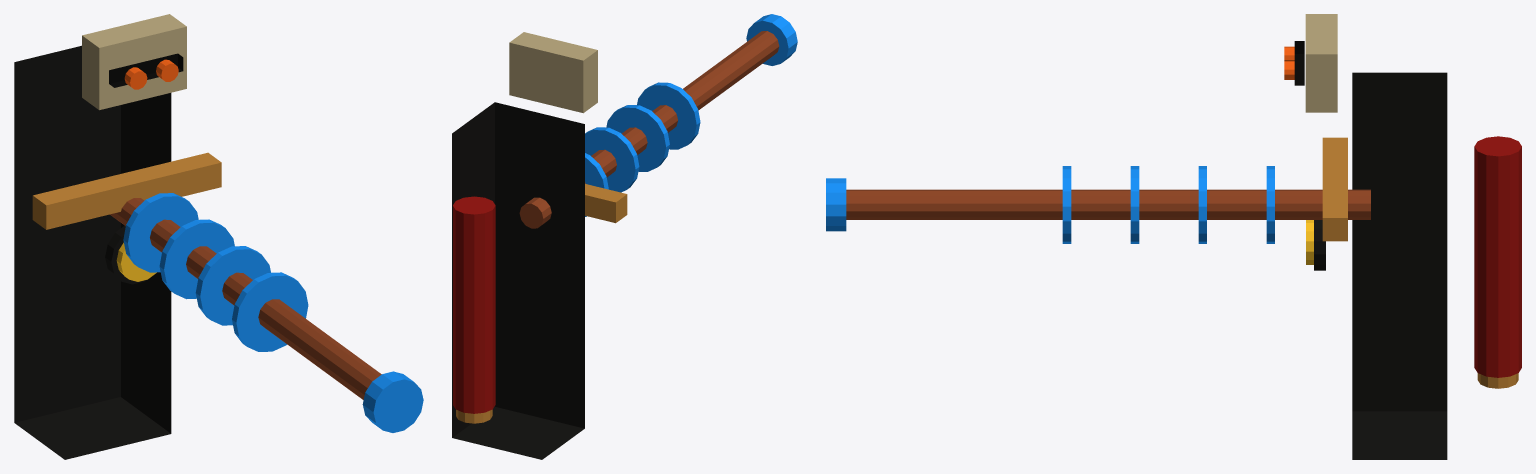
File: ENEMY_V0134_Lancer_ReadabilityOverlay.obj
3 renders of one model, left to right at view 1: azimuth 30°, elevation 25°; view 2: azimuth 150°, elevation 25°; view 3: azimuth 270°, elevation 25°, orthographic. The views are drawn at different scales.
Visible parts, largest first — view 1: lancer_tall_thin_ranged_silhouette_core, lancer_shoulders_kept_small_to_protect_lance_read, lancer_narrow_cream_face_plate, lancer_uninterrupted_forward_lance_line, lancer_sequence_bolt_charge_ring_z_0.98, lancer_sequence_bolt_charge_ring_z_0.78, lancer_sequence_bolt_charge_ring_z_0.58, lancer_sequence_bolt_charge_ring_z_0.38, lancer_muzzle_blue_bolt_core_not_weakpoint, lancer_soot_narrow_eye_slit, lancer_sternum_weak_point_below_weapon_black_ring, lancer_sternum_weak_point_below_weapon_gold_glass; view 2: lancer_tall_thin_ranged_silhouette_core, lancer_back_charge_red_pressure_vessel, lancer_narrow_cream_face_plate, lancer_uninterrupted_forward_lance_line, lancer_sequence_bolt_charge_ring_z_0.98, lancer_sequence_bolt_charge_ring_z_0.78, lancer_sequence_bolt_charge_ring_z_0.58, lancer_muzzle_blue_bolt_core_not_weakpoint, lancer_shoulders_kept_small_to_protect_lance_read, lancer_sequence_bolt_charge_ring_z_0.38, lancer_back_charge_brass_cap_a; view 3: lancer_tall_thin_ranged_silhouette_core, lancer_uninterrupted_forward_lance_line, lancer_back_charge_red_pressure_vessel, lancer_narrow_cream_face_plate, lancer_shoulders_kept_small_to_protect_lance_read, lancer_muzzle_blue_bolt_core_not_weakpoint, lancer_sequence_bolt_charge_ring_z_0.78, lancer_sequence_bolt_charge_ring_z_0.98, lancer_sequence_bolt_charge_ring_z_0.38, lancer_sequence_bolt_charge_ring_z_0.58.
Boxes of the visible parts, bbox=[...] form: lancer_tall_thin_ranged_silhouette_core: bbox=[14, 45, 171, 459]; lancer_shoulders_kept_small_to_protect_lance_read: bbox=[32, 152, 221, 229]; lancer_narrow_cream_face_plate: bbox=[82, 14, 186, 110]; lancer_uninterrupted_forward_lance_line: bbox=[110, 198, 381, 399]; lancer_sequence_bolt_charge_ring_z_0.98: bbox=[232, 272, 308, 351]; lancer_sequence_bolt_charge_ring_z_0.78: bbox=[195, 246, 270, 325]; lancer_sequence_bolt_charge_ring_z_0.58: bbox=[159, 219, 234, 299]; lancer_sequence_bolt_charge_ring_z_0.38: bbox=[123, 193, 198, 272]; lancer_muzzle_blue_bolt_core_not_weakpoint: bbox=[362, 371, 423, 432]; lancer_soot_narrow_eye_slit: bbox=[109, 53, 183, 87]; lancer_sternum_weak_point_below_weapon_black_ring: bbox=[105, 225, 146, 284]; lancer_sternum_weak_point_below_weapon_gold_glass: bbox=[116, 242, 156, 281]; lancer_tall_thin_ranged_silhouette_core: bbox=[452, 102, 584, 459]; lancer_back_charge_red_pressure_vessel: bbox=[453, 196, 495, 413]; lancer_narrow_cream_face_plate: bbox=[509, 32, 597, 113]; lancer_uninterrupted_forward_lance_line: bbox=[519, 31, 779, 228]; lancer_sequence_bolt_charge_ring_z_0.98: bbox=[637, 82, 700, 149]; lancer_sequence_bolt_charge_ring_z_0.78: bbox=[606, 105, 669, 171]; lancer_sequence_bolt_charge_ring_z_0.58: bbox=[585, 127, 639, 192]; lancer_muzzle_blue_bolt_core_not_weakpoint: bbox=[746, 14, 797, 65]; lancer_shoulders_kept_small_to_protect_lance_read: bbox=[585, 184, 627, 223]; lancer_sequence_bolt_charge_ring_z_0.38: bbox=[585, 153, 608, 216]; lancer_back_charge_brass_cap_a: bbox=[456, 409, 492, 423]; lancer_tall_thin_ranged_silhouette_core: bbox=[1352, 72, 1447, 459]; lancer_uninterrupted_forward_lance_line: bbox=[846, 189, 1370, 219]; lancer_back_charge_red_pressure_vessel: bbox=[1474, 136, 1521, 377]; lancer_narrow_cream_face_plate: bbox=[1305, 14, 1337, 112]; lancer_shoulders_kept_small_to_protect_lance_read: bbox=[1322, 137, 1347, 241]; lancer_muzzle_blue_bolt_core_not_weakpoint: bbox=[826, 178, 846, 231]; lancer_sequence_bolt_charge_ring_z_0.78: bbox=[1130, 166, 1139, 243]; lancer_sequence_bolt_charge_ring_z_0.98: bbox=[1062, 166, 1071, 243]; lancer_sequence_bolt_charge_ring_z_0.38: bbox=[1266, 166, 1274, 243]; lancer_sequence_bolt_charge_ring_z_0.58: bbox=[1198, 166, 1206, 243].
Bounding box in the file's own units: 0.56 × 1.31 × 2.05.
